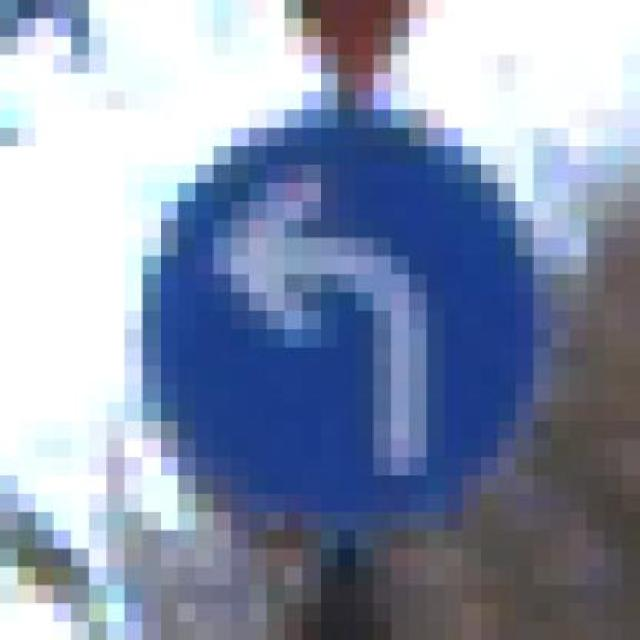Turn left ahead: (89, 73, 586, 549)
